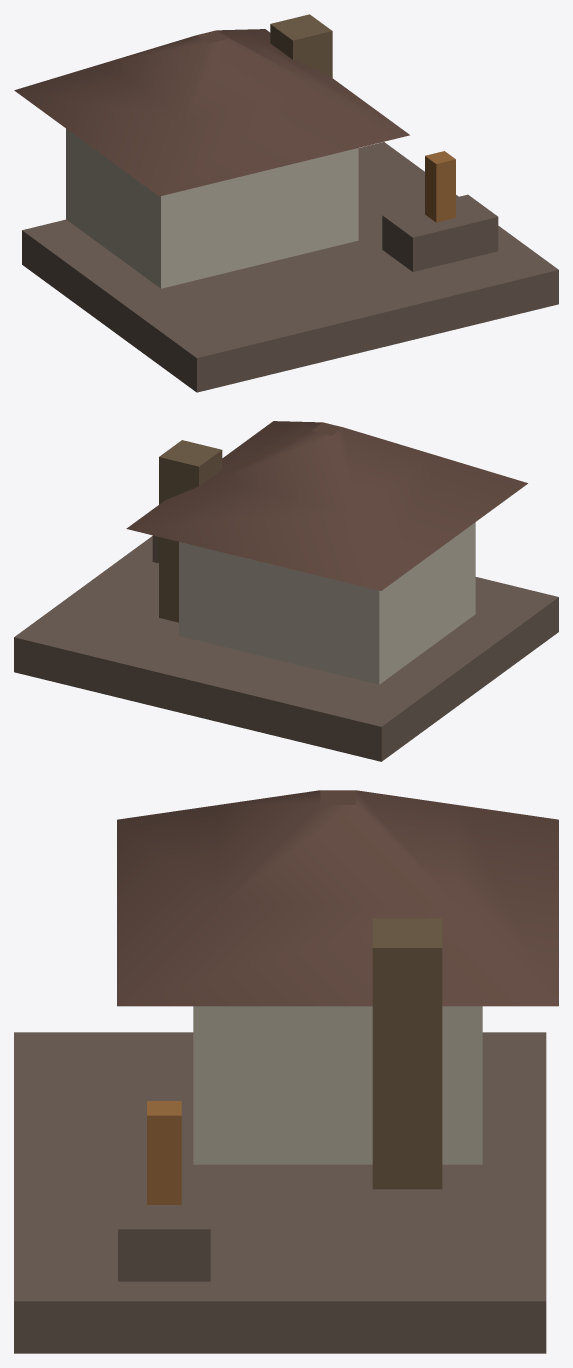
File: qi_tang_fen_feng.glb
3 views of the same model, one above another, from view 1: azimuth 30°, elevation 25°; view 2: azimuth 150°, elevation 25°; view 3: azimuth 270°, elevation 25° (orthographic). The views are drawn at different scales.
Visible parts, largest first — view 1: _MeshInstance3D_92, _MeshInstance3D_94, _MeshInstance3D_93, _MeshInstance3D_96, _MeshInstance3D_95, _MeshInstance3D_97; view 2: _MeshInstance3D_92, _MeshInstance3D_94, _MeshInstance3D_93, _MeshInstance3D_95; view 3: _MeshInstance3D_92, _MeshInstance3D_94, _MeshInstance3D_93, _MeshInstance3D_95, _MeshInstance3D_96, _MeshInstance3D_97.
Boxes of the visible parts, <box> form: _MeshInstance3D_92: <box>22,142,558,392</box>; _MeshInstance3D_94: <box>14,29,409,196</box>; _MeshInstance3D_93: <box>66,128,358,288</box>; _MeshInstance3D_96: <box>382,194,498,271</box>; _MeshInstance3D_95: <box>270,14,332,77</box>; _MeshInstance3D_97: <box>425,151,455,222</box>; _MeshInstance3D_92: <box>14,536,558,761</box>; _MeshInstance3D_94: <box>126,421,527,590</box>; _MeshInstance3D_93: <box>179,522,475,684</box>; _MeshInstance3D_95: <box>159,440,222,622</box>; _MeshInstance3D_92: <box>14,1032,546,1353</box>; _MeshInstance3D_94: <box>117,790,558,1006</box>; _MeshInstance3D_93: <box>193,1006,482,1164</box>; _MeshInstance3D_95: <box>372,918,442,1189</box>; _MeshInstance3D_96: <box>118,1165,210,1281</box>; _MeshInstance3D_97: <box>147,1101,181,1204</box>.
Bounding box in the file's own units: 1.11 × 0.72 × 0.9418.
